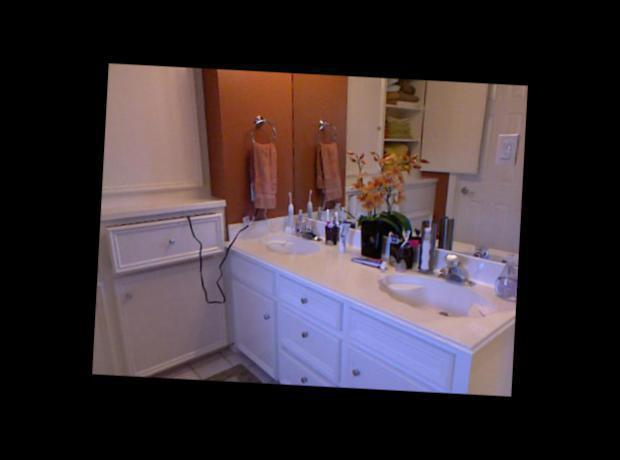Lavamanos: (367, 241, 502, 330), (260, 215, 322, 264)
